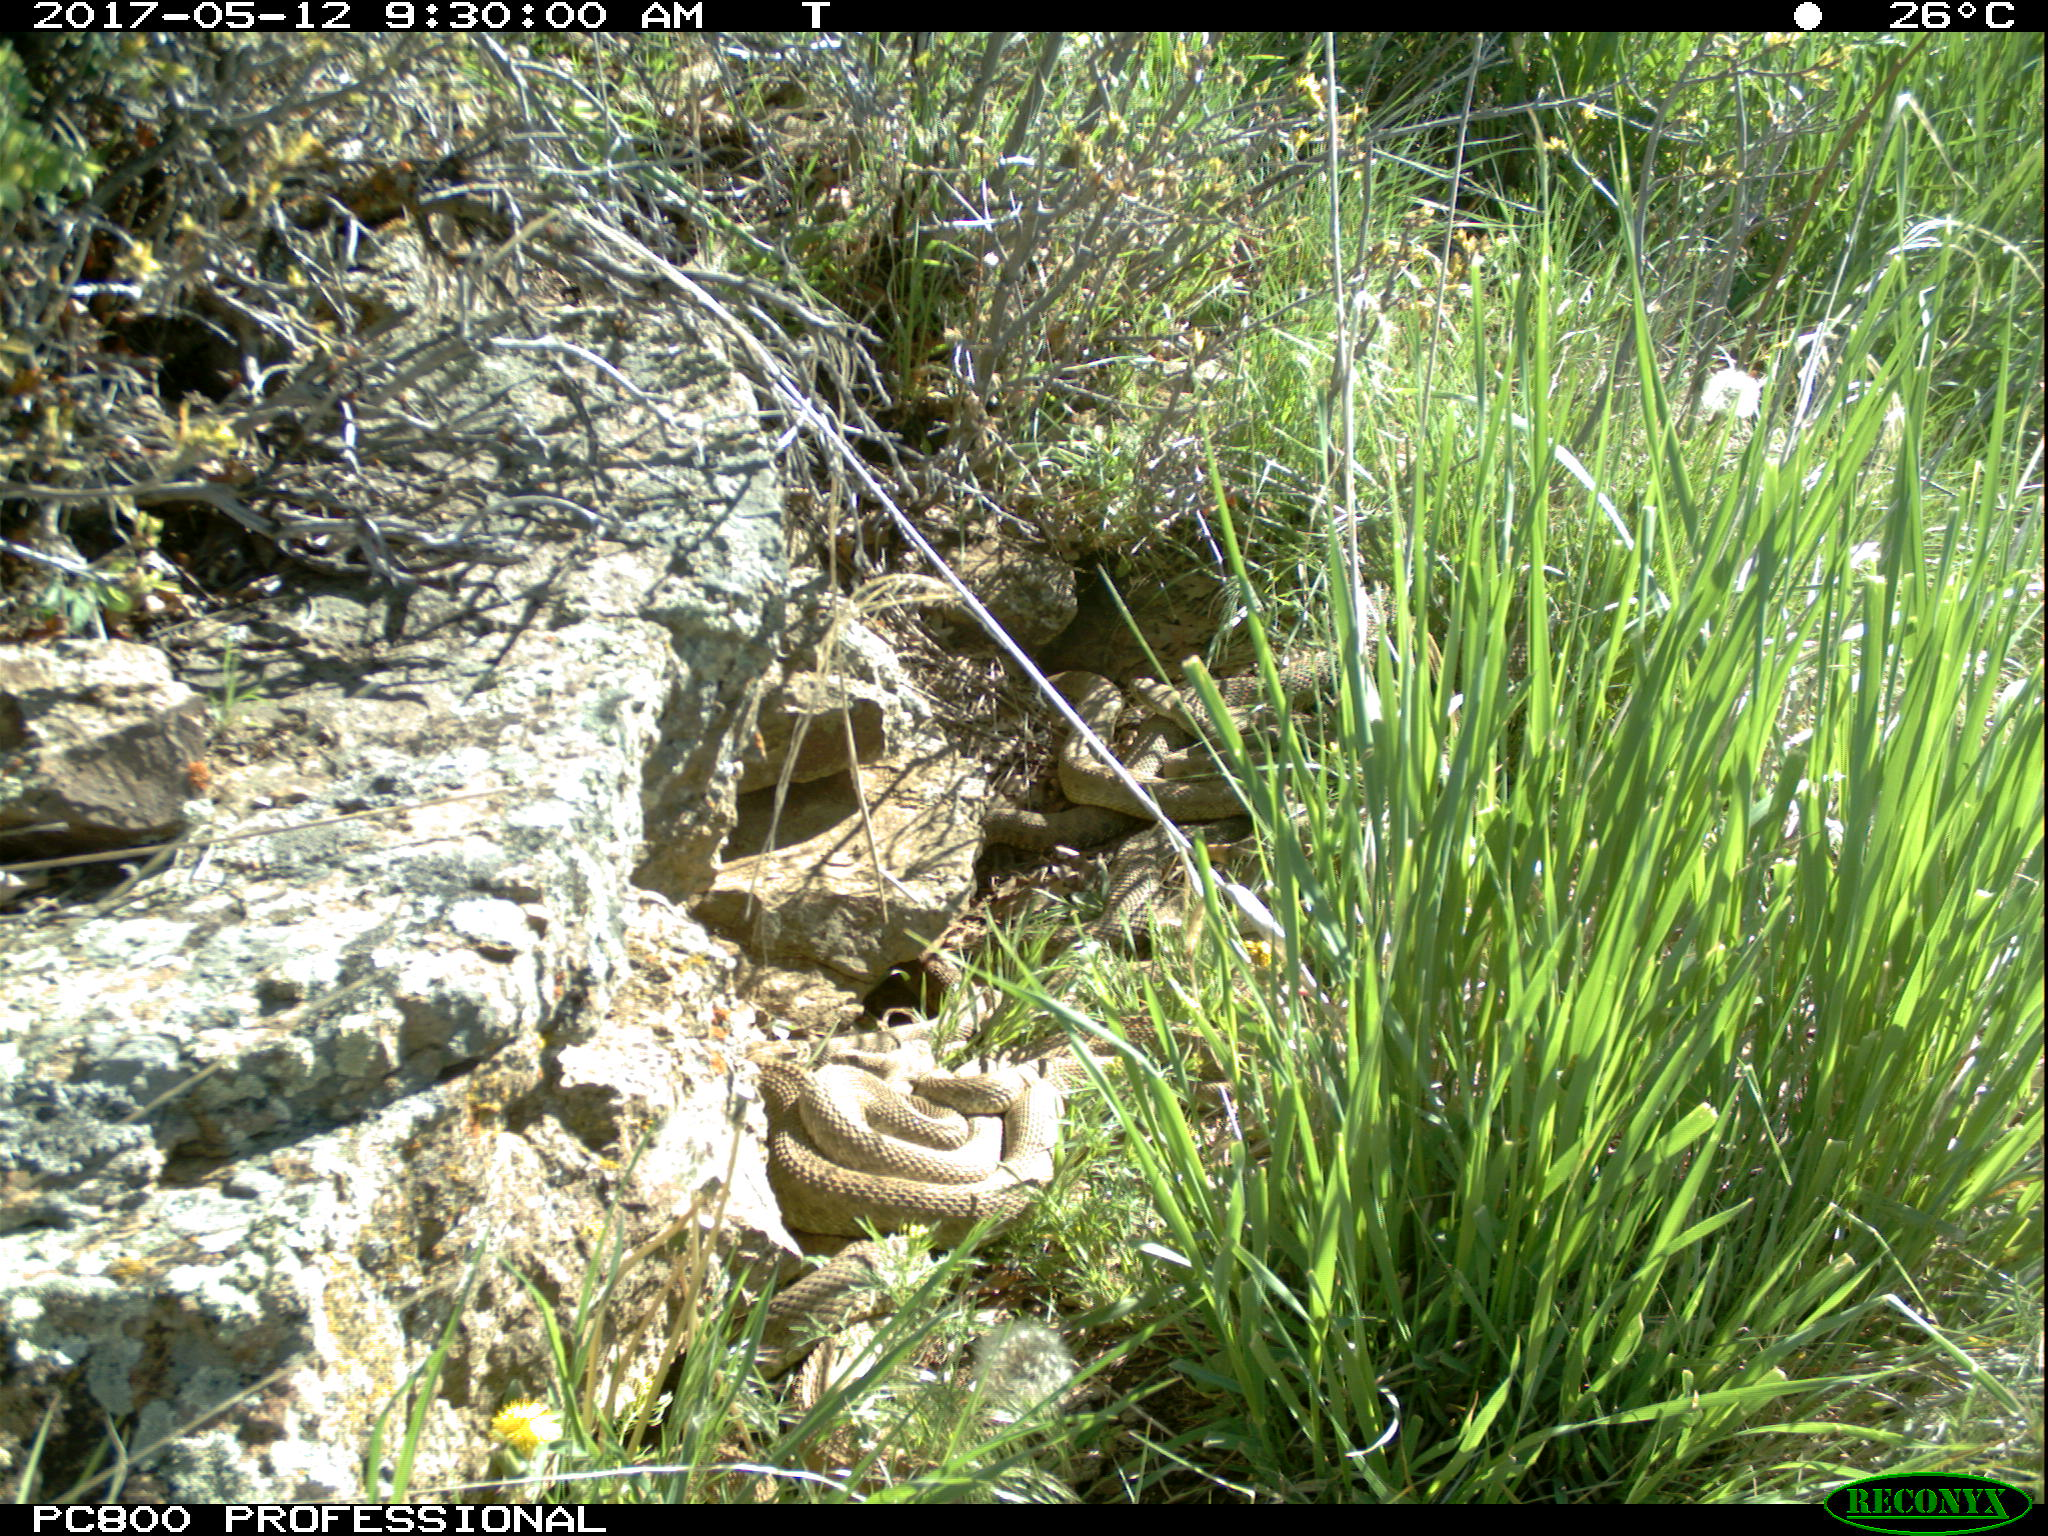snake: (745, 1052, 1074, 1241), (977, 665, 1264, 849), (727, 1231, 942, 1447), (1221, 652, 1356, 733), (1092, 829, 1174, 949)
